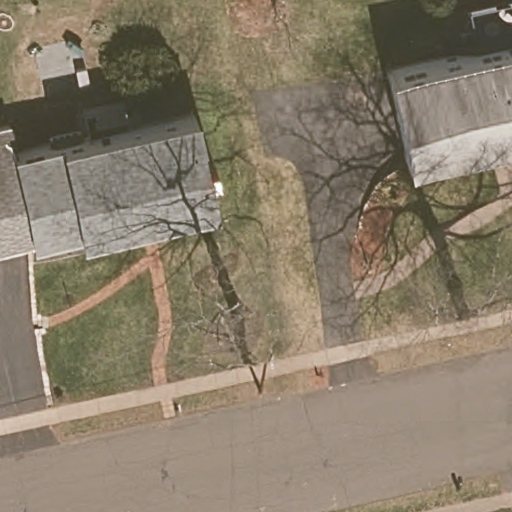DT: (256, 351, 275, 399)
